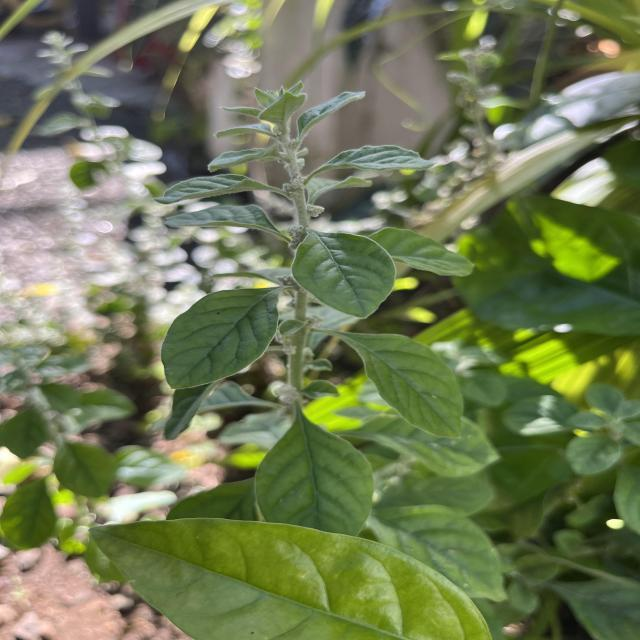Aerva lanata: (158, 287, 281, 393), (289, 225, 401, 322)
